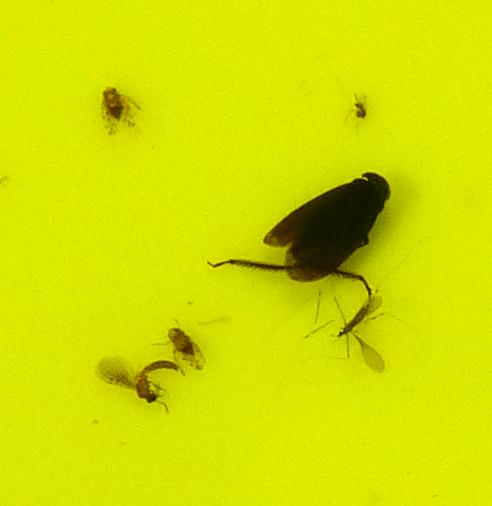Hemiptera: (211, 169, 392, 296), (98, 85, 138, 136), (166, 325, 201, 370)
Hymenoptera: (100, 357, 182, 406)
Nematocera: (334, 297, 375, 339), (353, 100, 368, 120)
